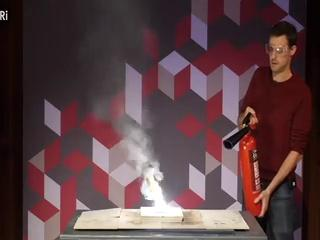Fire: (135, 162, 174, 210)
